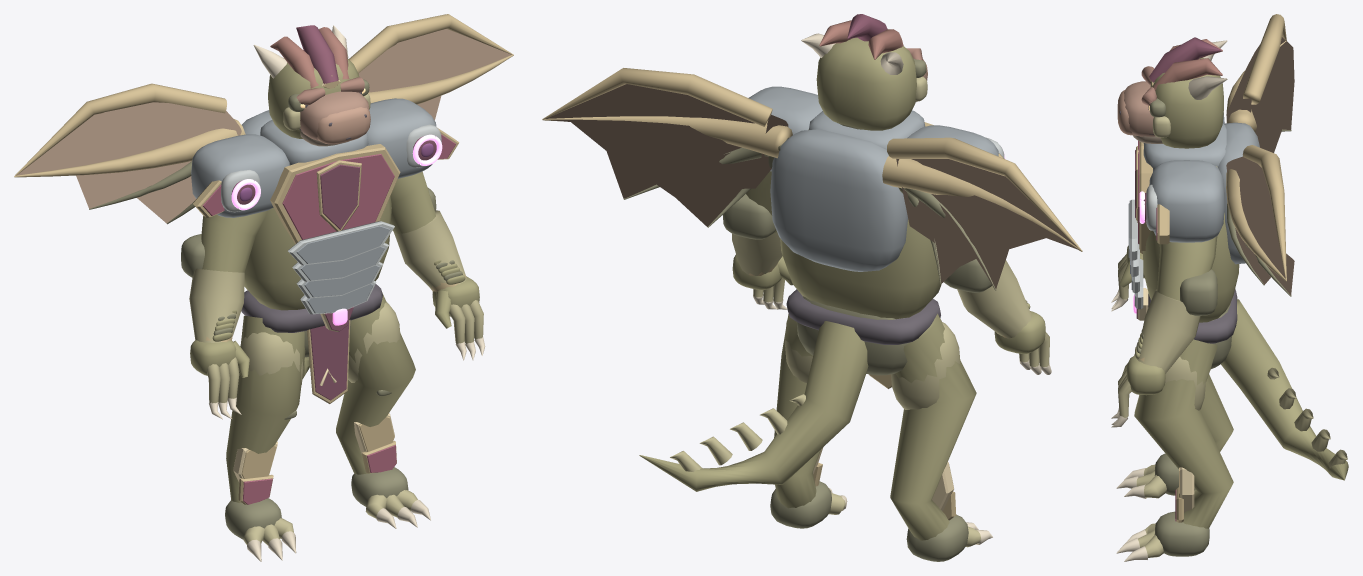
Rendered from PATRIARCH_URIEL_ULTANOS.glb.
3 renders of one model, left to right at view 1: azimuth 30°, elevation 25°; view 2: azimuth 150°, elevation 25°; view 3: azimuth 270°, elevation 25°, orthographic. The views are drawn at different scales.
Parts seen in each view (by area): view 1: Left folded wing membrane, Left digitigrade leg, Right digitigrade leg, Right folded wing membrane, Left shoulder frame, Scaled torso, Burgundy cuirass face, Left outer wing ridge, Left scaled forearm, Right shoulder frame, Left scaled upper arm, Left wing ridge 3 (+34 smaller); view 2: Reinforced back housing, Right folded wing membrane, Sweep of armoured tail, Left digitigrade leg, Left folded wing membrane, Scaled torso, Heavy scaled cranium, Right outer wing ridge, Left outer wing ridge, Utility girdle, Right wing ridge 3, Right digitigrade leg (+18 smaller); view 3: Right digitigrade leg, Sweep of armoured tail, Right shoulder frame, Right folded wing membrane, Left folded wing membrane, Heavy scaled cranium, Right scaled forearm, Scaled torso, Right scaled upper arm, Right outer wing ridge, Left outer wing ridge, Right foot (+25 smaller).
Boxes of the visible parts, x1,y1,x2,y2 form: Left folded wing membrane: (17, 102, 241, 223); Left digitigrade leg: (226, 315, 305, 502); Right digitigrade leg: (336, 292, 415, 474); Right folded wing membrane: (358, 29, 511, 120); Left shoulder frame: (191, 134, 289, 217); Scaled torso: (244, 196, 391, 310); Burgundy cuirass face: (282, 154, 394, 239); Left outer wing ridge: (15, 83, 226, 175); Left scaled forearm: (189, 268, 244, 342); Right shoulder frame: (366, 98, 436, 178); Left scaled upper arm: (201, 211, 266, 272); Left wing ridge 3: (14, 119, 245, 177); Reinforced back housing: (770, 129, 908, 271); Right folded wing membrane: (545, 84, 788, 226); Sweep of armoured tail: (639, 321, 868, 491); Left digitigrade leg: (890, 313, 976, 540); Left folded wing membrane: (896, 159, 1078, 288); Scaled torso: (780, 129, 941, 319); Heavy scaled cranium: (816, 37, 916, 130); Right outer wing ridge: (542, 68, 772, 126); Left outer wing ridge: (887, 137, 1081, 250); Utility girdle: (786, 289, 940, 344); Right wing ridge 3: (542, 116, 792, 158); Right digitigrade leg: (774, 314, 820, 508); Right digitigrade leg: (1134, 339, 1233, 528); Sweep of armoured tail: (1221, 299, 1348, 480); Right shoulder frame: (1149, 160, 1224, 242); Right folded wing membrane: (1226, 156, 1294, 295); Left folded wing membrane: (1226, 37, 1294, 152); Heavy scaled cranium: (1150, 58, 1223, 148); Right scaled forearm: (1136, 289, 1200, 373); Scaled torso: (1142, 166, 1239, 322); Right scaled upper arm: (1157, 236, 1217, 300); Right outer wing ridge: (1242, 145, 1286, 280); Left outer wing ridge: (1243, 14, 1286, 104); Right foot: (1154, 511, 1209, 556).
Bounding box in the file's own units: 4.91 × 4.6 × 2.05.
